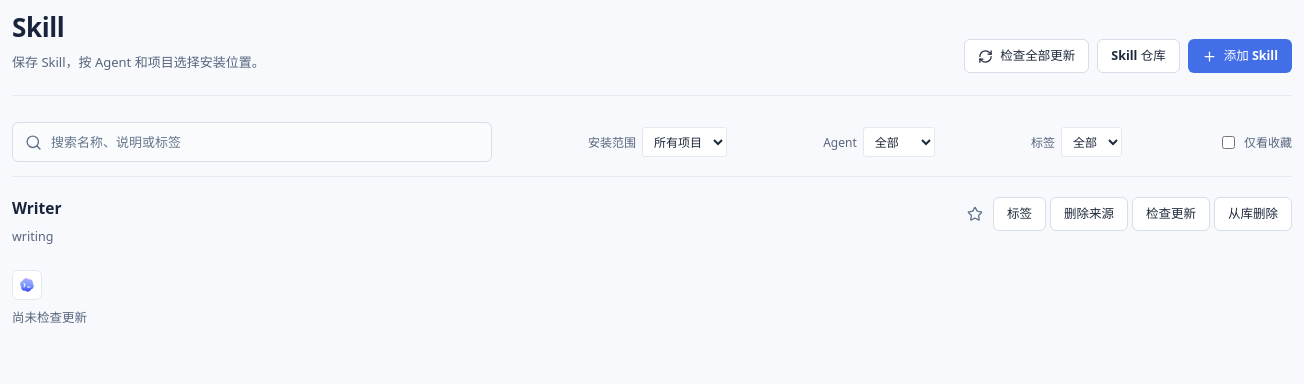
does not claim saved when both save and refresh reject
Click the button named "收藏 Writer". click: [975, 214]
box: [961,200,989,228]
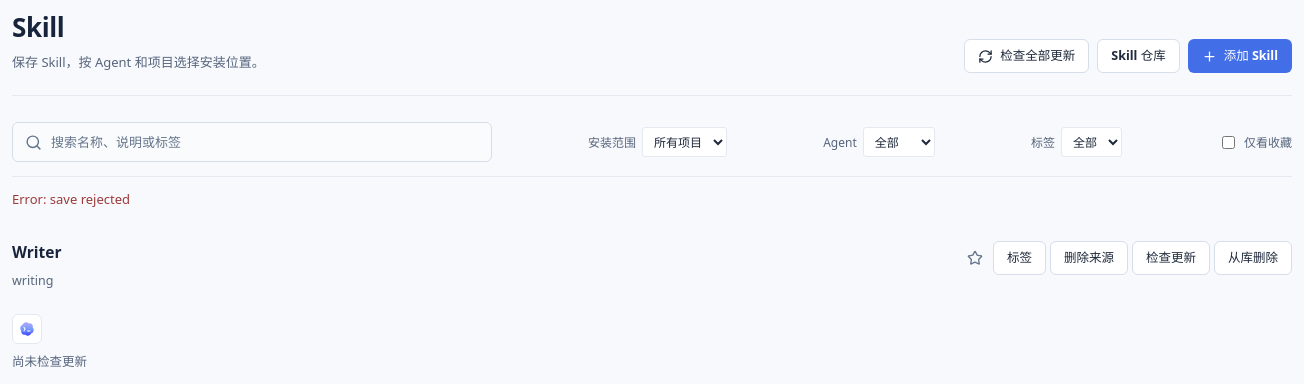
Check: the button named "收藏 Writer" is enabled, box [961,244,989,272]
Check: the message shows "save rejected", box [12,190,130,208]
